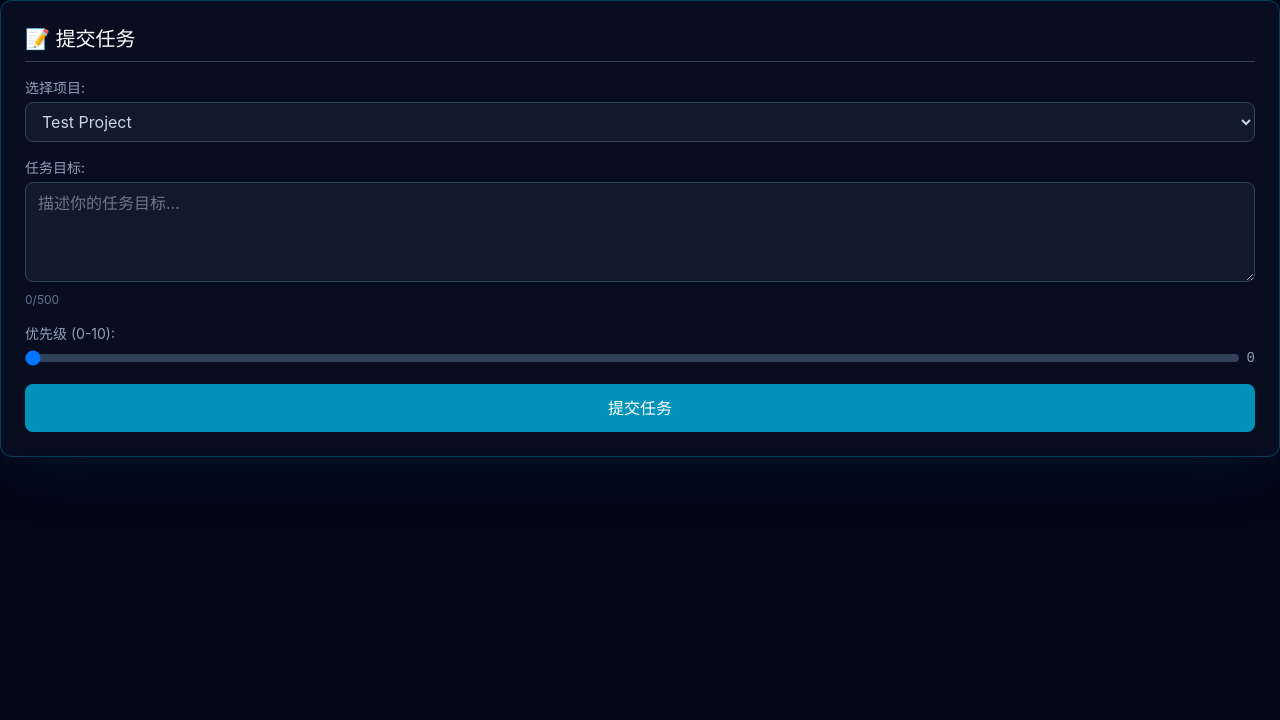
Test: TaskSubmitPanel › handles API error gracefully
// Select project and enter objective
Select "Test Project" in the dropdown at (640, 122), box [25,102,1255,142]
Type "Test objective" into the text box with placeholder "描述你的任务目标..." at (640, 232), box [25,182,1255,282]
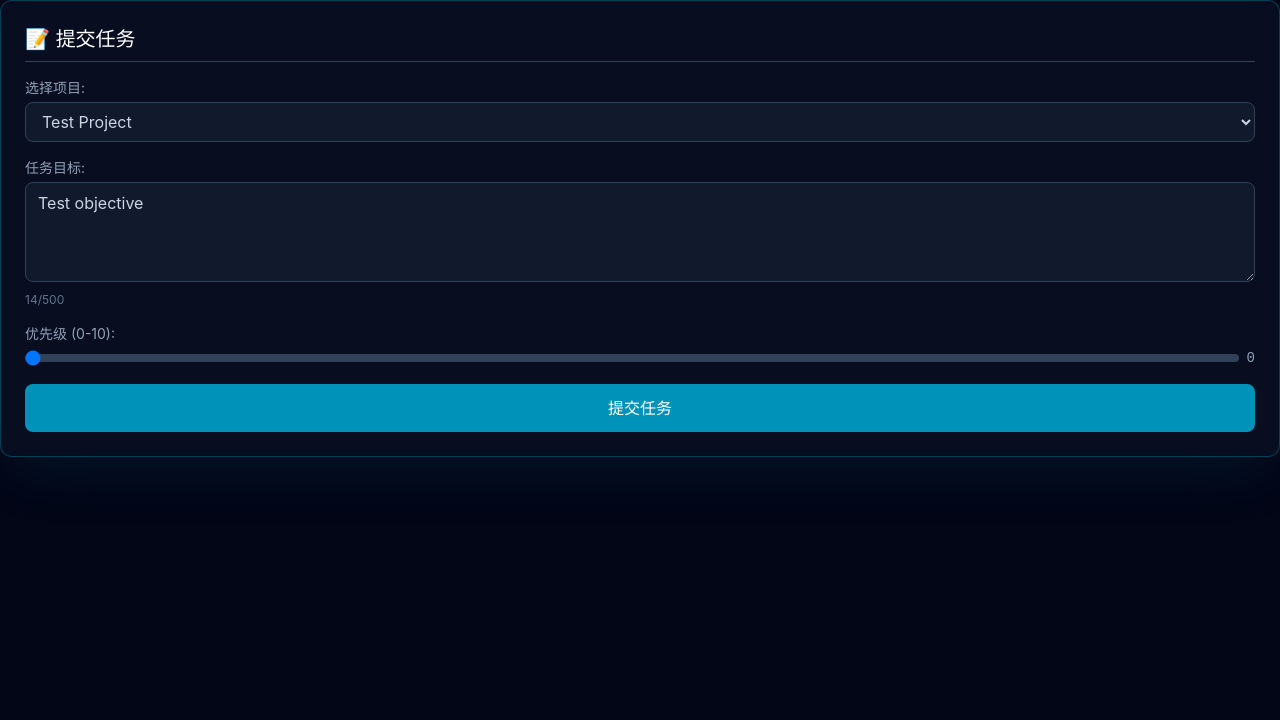
// Click submit
Click the button "提交任务" at (640, 408), box [25,384,1255,432]
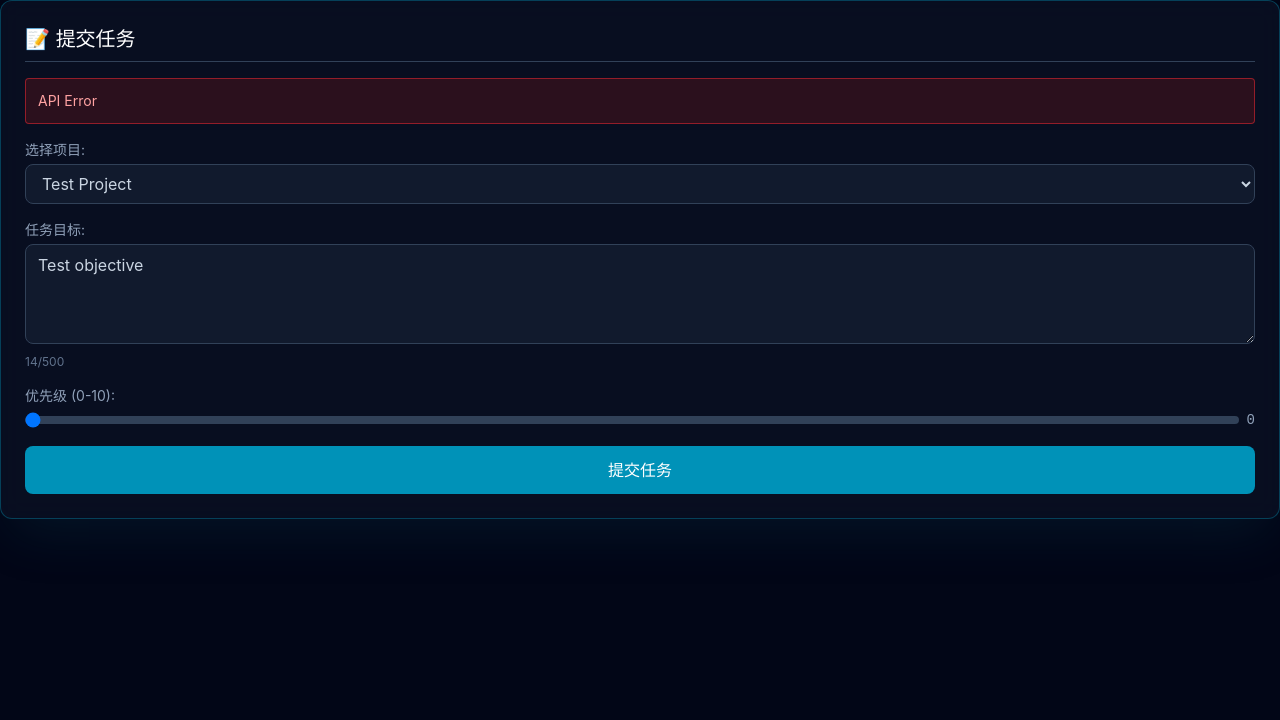
Expected: the text "API Error" is shown, [25,78,1255,124]
